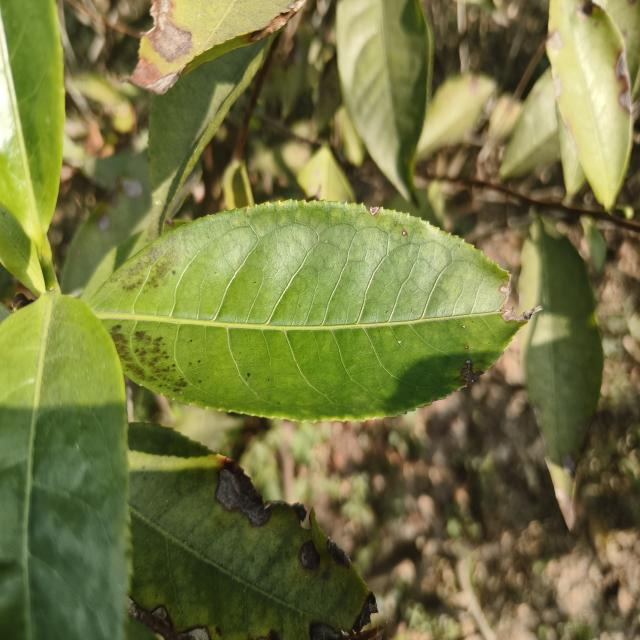Leaf: (89, 201, 526, 420), (128, 423, 378, 640), (0, 292, 129, 640), (519, 218, 603, 529), (148, 39, 269, 235), (335, 0, 429, 199), (547, 0, 633, 210), (130, 0, 306, 94), (61, 152, 151, 299), (416, 74, 496, 159), (499, 68, 560, 179)
